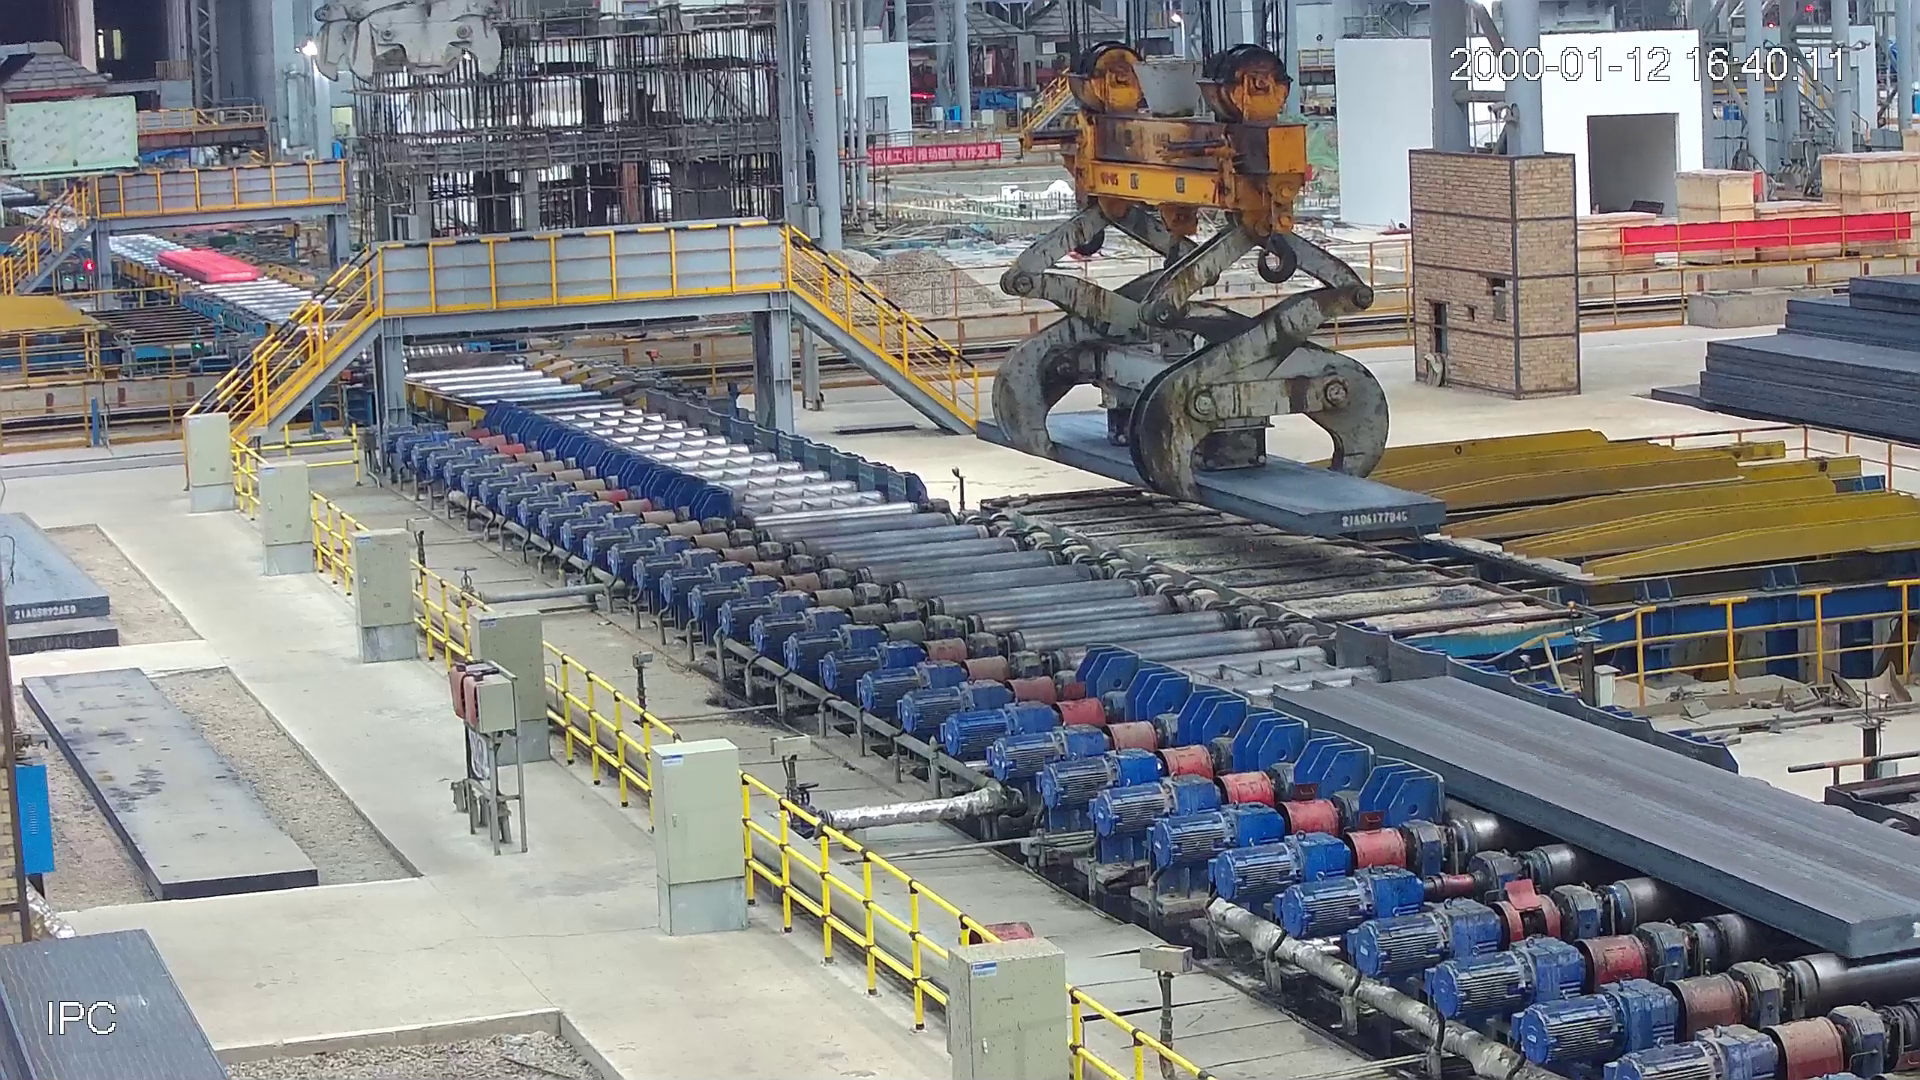craneandslab: (975, 36, 1443, 534)
slab: (1273, 669, 1920, 961), (158, 251, 265, 286)
